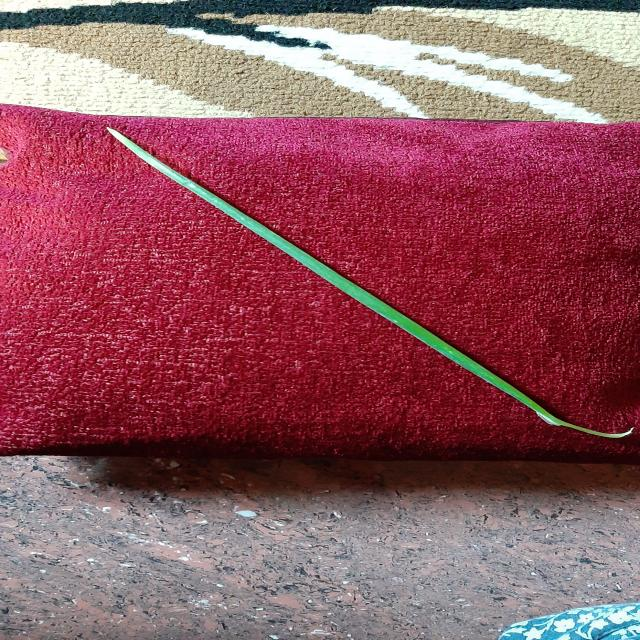onion: (108, 128, 564, 426)
